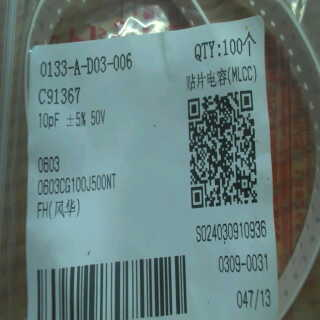10pF: (34, 108, 61, 137)
